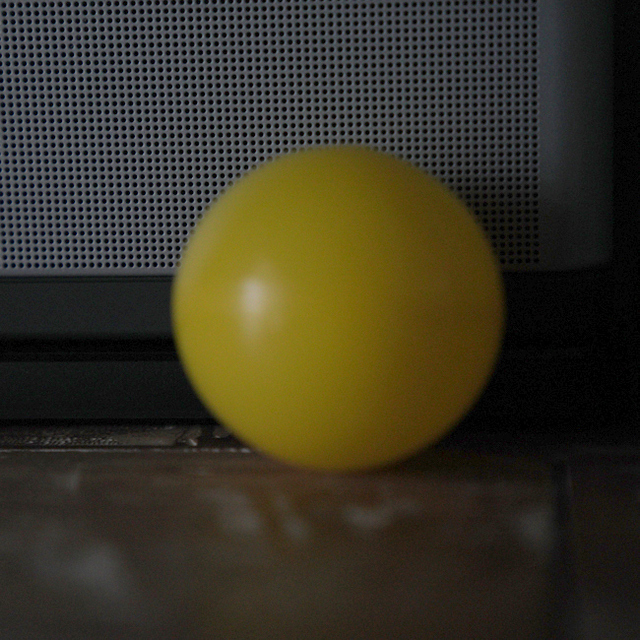Ball: (170, 146, 511, 474)
